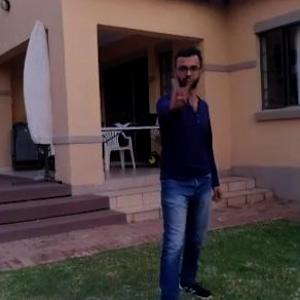takeoff-hand: (164, 69, 194, 111)
